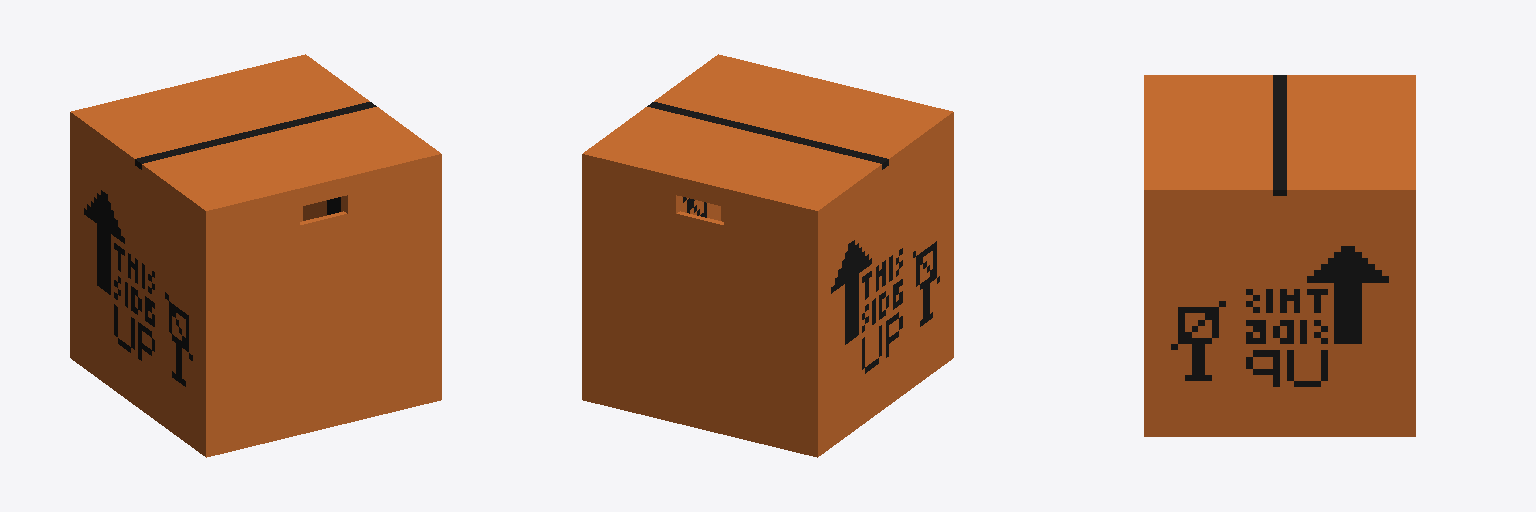
The picture shows the model from 3 angles: view 1: azimuth 30°, elevation 25°; view 2: azimuth 150°, elevation 25°; view 3: azimuth 270°, elevation 25°; orthographic projection.
Visible parts, largest first — view 1: object 1; view 2: object 1; view 3: object 1.
Boxes of the visible parts, x1=… form: object 1: x1=70, y1=54, x2=441, y2=457; object 1: x1=582, y1=54, x2=953, y2=457; object 1: x1=1144, y1=75, x2=1415, y2=436.
Bounding box in the file's own units: 4 × 4 × 4.
1 materials, 1 textured.